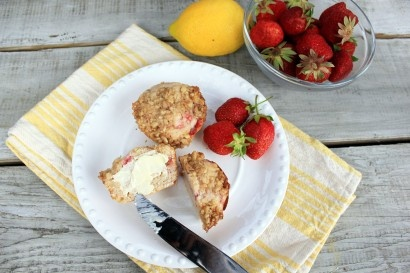background: (62, 34, 176, 99), (72, 0, 230, 35), (50, 0, 156, 24)
